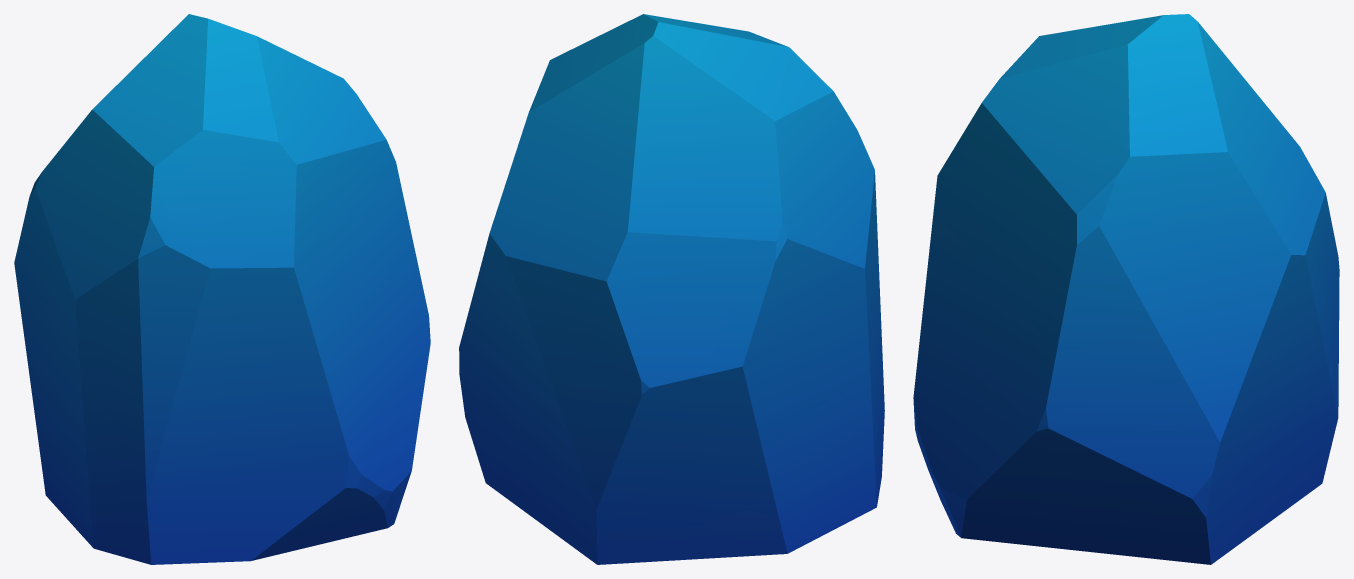
File: Crystal_5.glb
3 views of the same model, side by side, from view 1: azimuth 30°, elevation 25°; view 2: azimuth 150°, elevation 25°; view 3: azimuth 270°, elevation 25° (orthographic). The views are drawn at different scales.
Visible parts, largest first — view 1: crystal_7; view 2: crystal_7; view 3: crystal_7.
Boxes of the visible parts, <box> form: crystal_7: <box>14,14,430,564</box>; crystal_7: <box>459,14,884,564</box>; crystal_7: <box>913,14,1339,564</box>.
Bounding box in the file's own units: 6.21 × 8.1 × 6.55.
